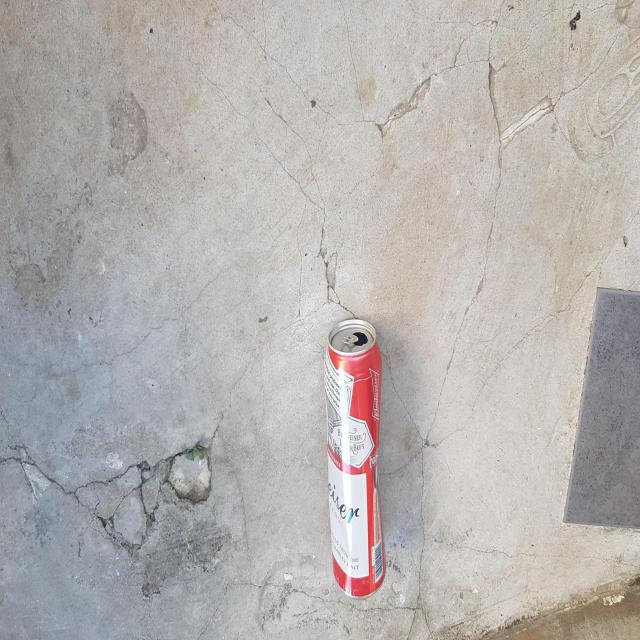can: (324, 319, 386, 599)
